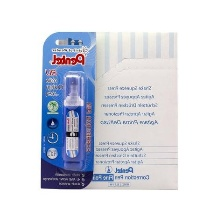book: (56, 28, 179, 191), (38, 29, 99, 190)
correction_fluid: (60, 70, 90, 172)
